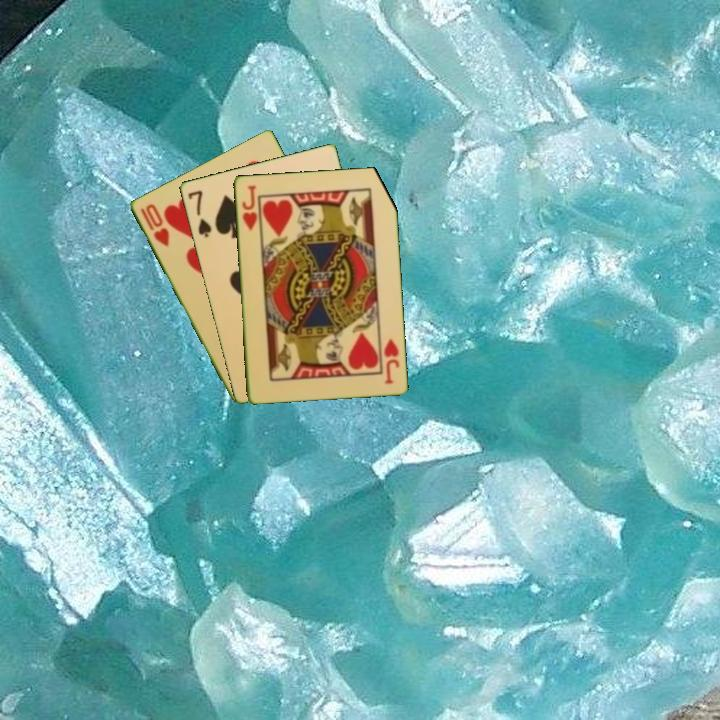10h: (136, 200, 172, 249)
7s: (184, 187, 214, 240)
Jh: (238, 181, 260, 233), (380, 335, 402, 386)
